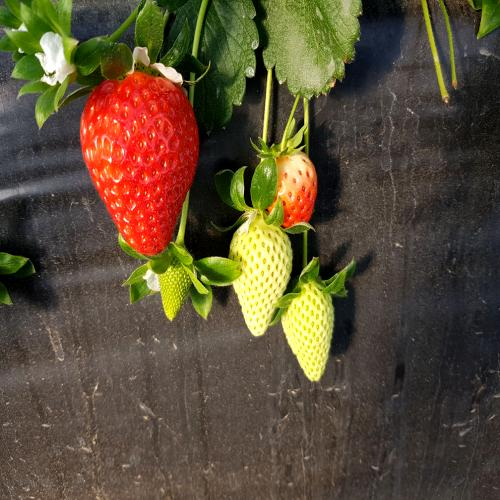ripe: (75, 68, 204, 270)
unripe: (228, 218, 292, 337), (282, 276, 341, 391)
